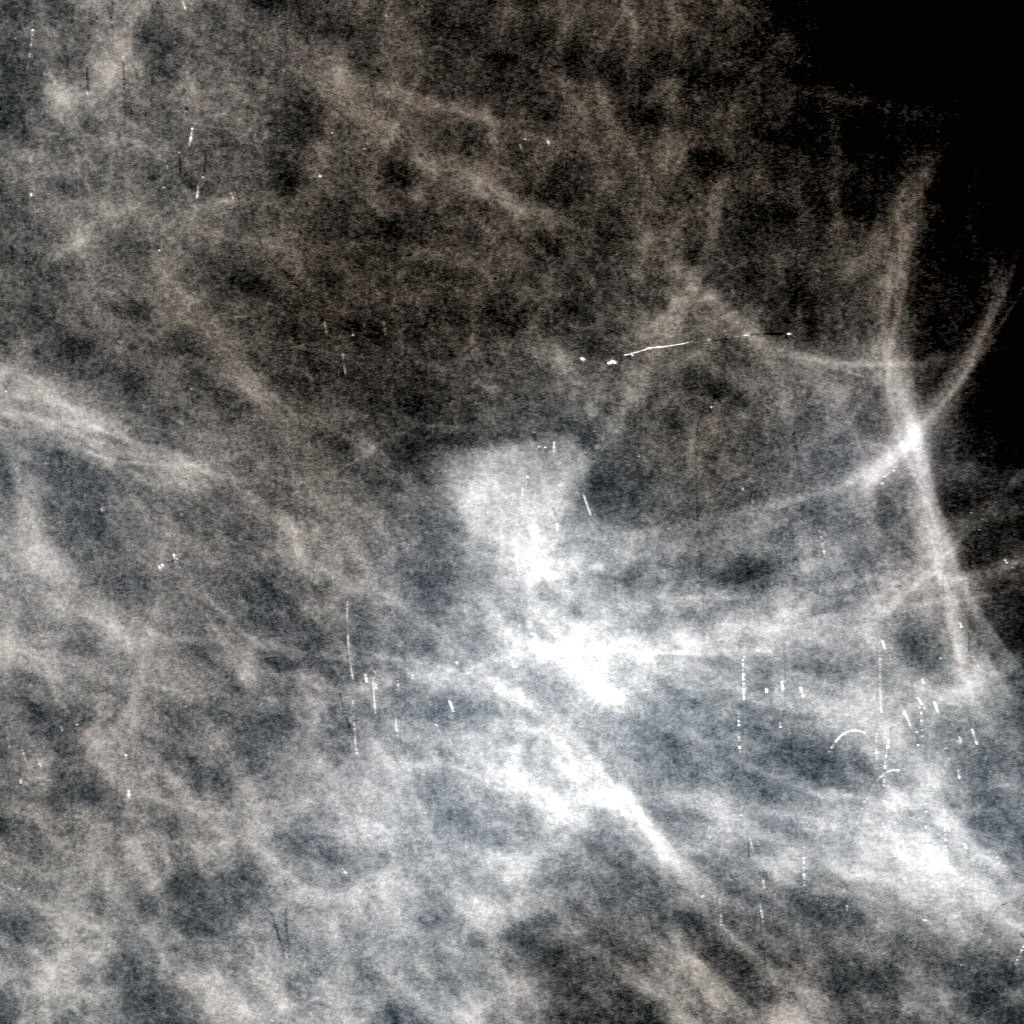tumor: (428, 431, 596, 593)
